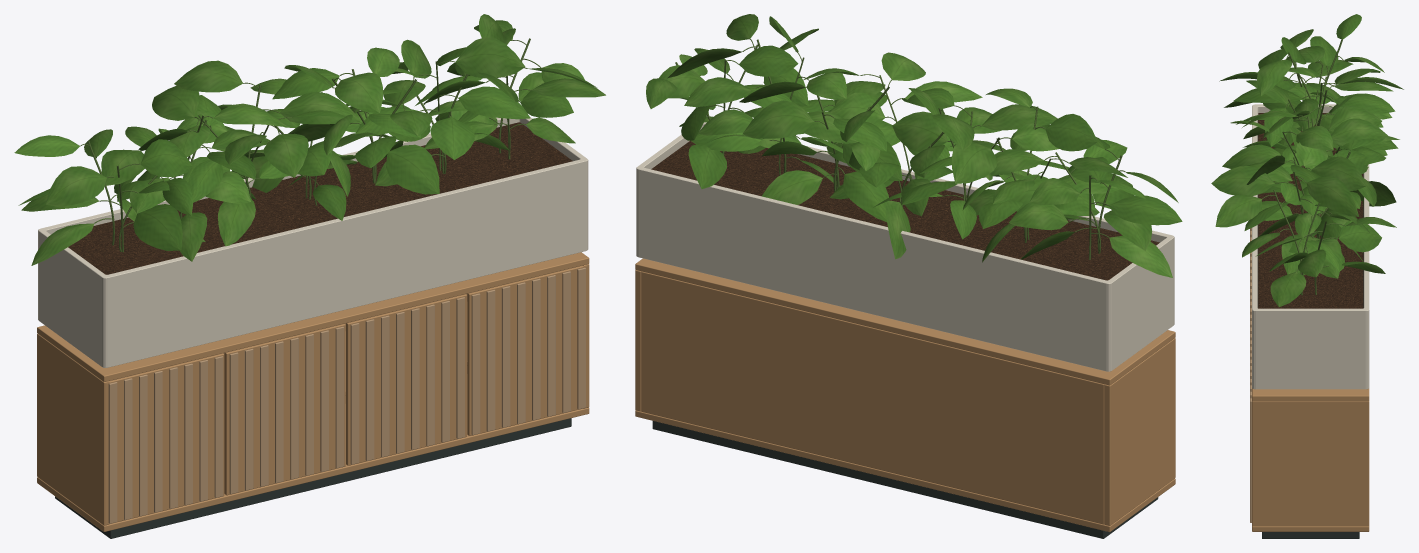
Rendered from botanicalDivider-9.glb.
3 views of the same model, side by side, from view 1: azimuth 30°, elevation 25°; view 2: azimuth 150°, elevation 25°; view 3: azimuth 270°, elevation 25° (orthographic). The views are drawn at different scales.
Parts seen in each view (by area): view 1: Planter_pothos_leaves, Planter_oiled_oak, StoragePlanter_Batten (×32), StoragePlanter_Door (×4), Planter_loose_soil, StoragePlanter_Side, StoragePlanter_Top, StoragePlanter_Plinth, StoragePlanter_Bottom, Planter_pothos_stems; view 2: StoragePlanter_Back, Planter_pothos_leaves, Planter_oiled_oak, Planter_loose_soil, StoragePlanter_Side (×2), StoragePlanter_Top, StoragePlanter_Plinth, StoragePlanter_Bottom, Planter_pothos_stems; view 3: Planter_pothos_leaves, StoragePlanter_Side, Planter_oiled_oak, Planter_loose_soil, Planter_pothos_stems, StoragePlanter_Top, StoragePlanter_Bottom, StoragePlanter_Plinth, StoragePlanter_Batten.
Boxes of the visible parts, x1,y1,x2,y2 form: Planter_pothos_leaves: (14,14,605,265); Planter_oiled_oak: (38,117,588,367); StoragePlanter_Batten (×32): (108,267,585,523); StoragePlanter_Door (×4): (105,265,588,524); Planter_loose_soil: (68,122,572,274); StoragePlanter_Side: (37,333,109,525); StoragePlanter_Top: (37,252,589,381); StoragePlanter_Plinth: (55,418,571,538); StoragePlanter_Bottom: (37,374,589,531); Planter_pothos_stems: (80,38,541,252); StoragePlanter_Back: (641,271,1104,524); Planter_pothos_leaves: (646,14,1182,277); Planter_oiled_oak: (636,122,1174,371); Planter_loose_soil: (651,140,1159,280); StoragePlanter_Side (×2): (635,270,1175,525); StoragePlanter_Top: (635,258,1175,385); StoragePlanter_Plinth: (652,421,1158,538); StoragePlanter_Bottom: (635,410,1175,532); Planter_pothos_stems: (675,39,1125,259); Planter_pothos_leaves: (1211,14,1403,307); StoragePlanter_Side: (1252,401,1369,526); Planter_oiled_oak: (1252,104,1369,389); Planter_loose_soil: (1258,113,1363,308); Planter_pothos_stems: (1262,39,1350,295); StoragePlanter_Top: (1252,388,1369,401); StoragePlanter_Bottom: (1252,526,1369,531); StoragePlanter_Plinth: (1262,532,1359,538); StoragePlanter_Batten: (1250,398,1251,522).
Size of the model in its own units: 2.26 by 1.58 by 0.7924.
10 materials, 2 textured.
